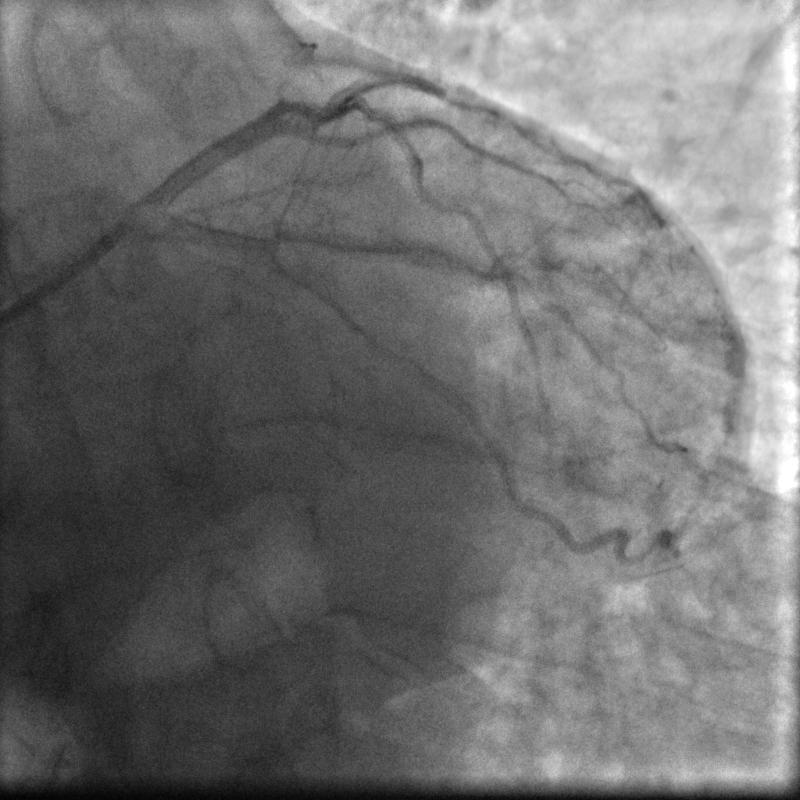Stenosis: (354, 317, 383, 356)
